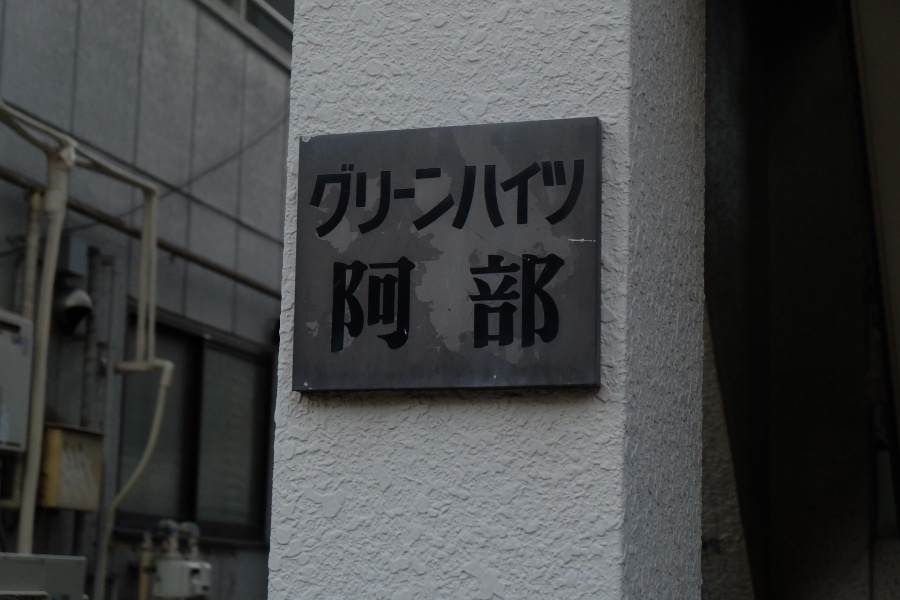text: (337, 254, 352, 351), (353, 254, 368, 351), (369, 254, 384, 351), (385, 254, 400, 351), (401, 254, 416, 351), (417, 254, 432, 351), (433, 254, 448, 351), (449, 254, 464, 351), (465, 254, 480, 351), (481, 254, 496, 351), (497, 254, 512, 351), (513, 254, 528, 351), (529, 254, 544, 351), (545, 254, 560, 351), (321, 160, 336, 239), (337, 160, 352, 239), (353, 160, 368, 239), (369, 160, 384, 239), (385, 160, 400, 239), (401, 160, 416, 239), (417, 160, 432, 239), (433, 160, 448, 239), (449, 160, 464, 239), (465, 160, 480, 239), (481, 160, 496, 239), (497, 160, 512, 239), (513, 160, 528, 239), (529, 160, 544, 239), (545, 160, 560, 239), (561, 160, 576, 239), (577, 160, 586, 239), (329, 254, 336, 351), (314, 160, 320, 239), (561, 254, 564, 351)
